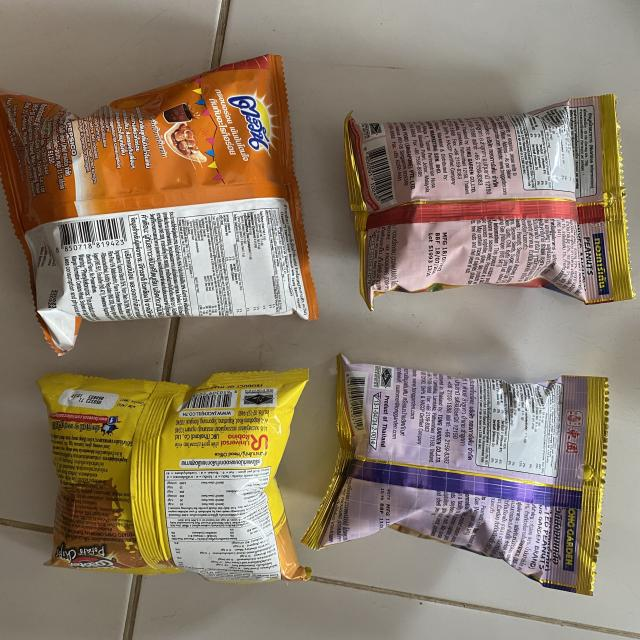plastik: (0, 55, 318, 354), (304, 356, 604, 591), (345, 96, 632, 308), (38, 369, 310, 582)
